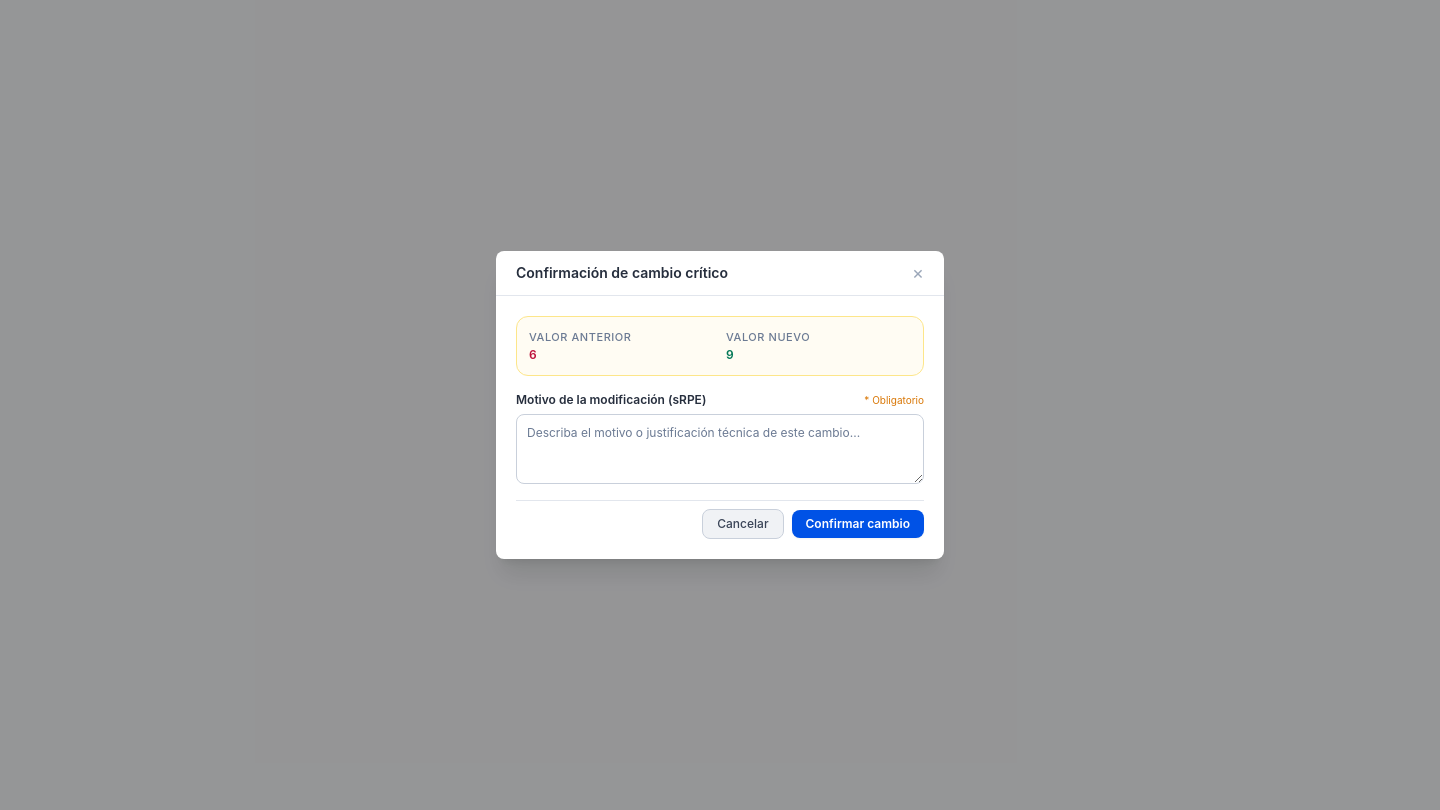
Test: ConfirmationModal Component (src/components/shared/ConfirmationModal.tsx) › 2. Sin prop requireReason, bloquea confirmación con campo vacío o espacios
Click the button "Confirmar cambio": (858, 524) [792,510,924,538]
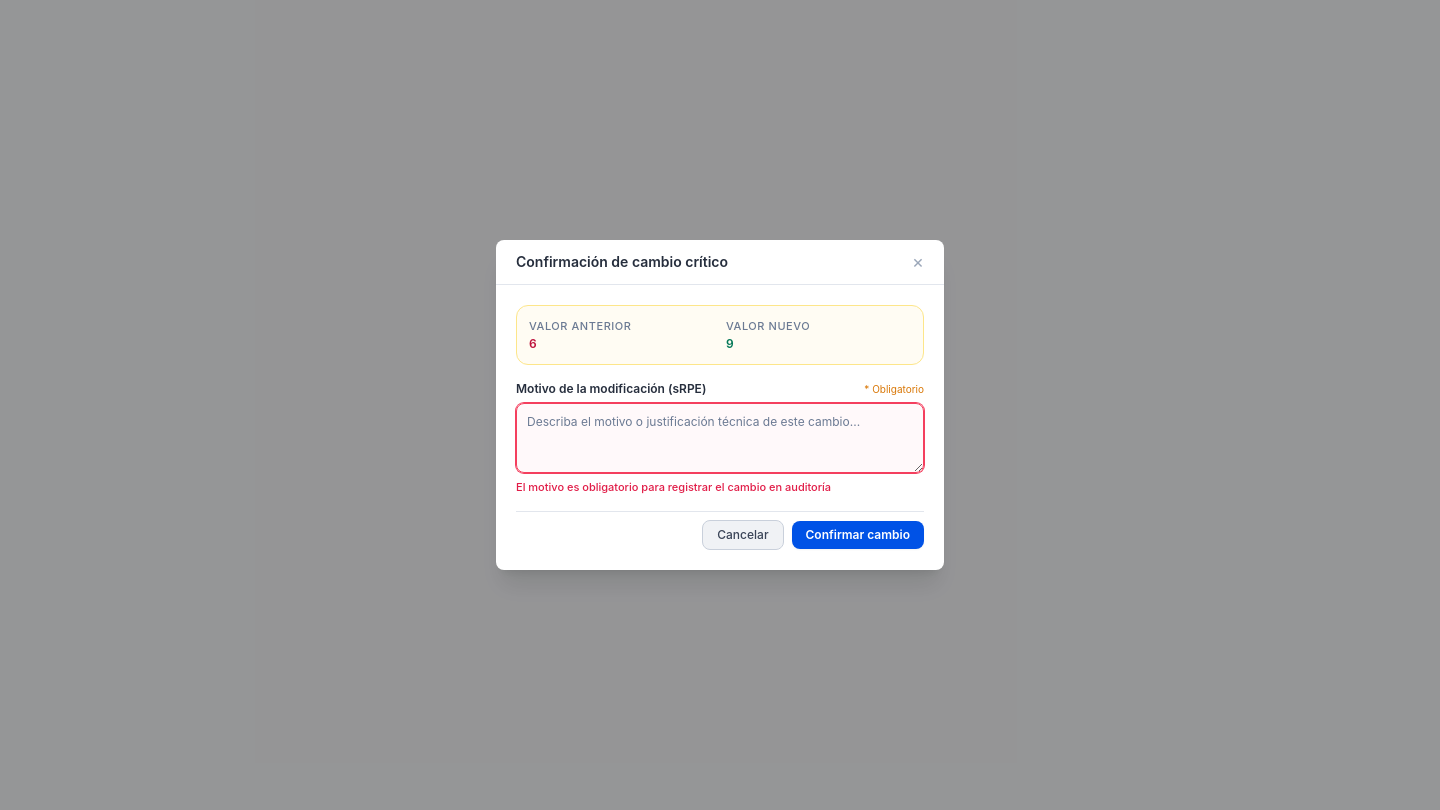
Now the text "El motivo es obligatorio" is shown, box [516,480,831,494]
